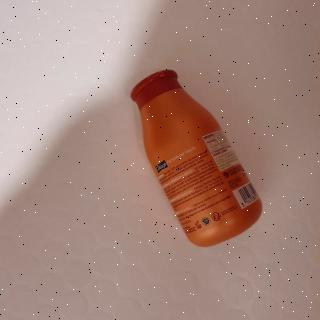Plastic-bottle: (128, 69, 268, 251)
